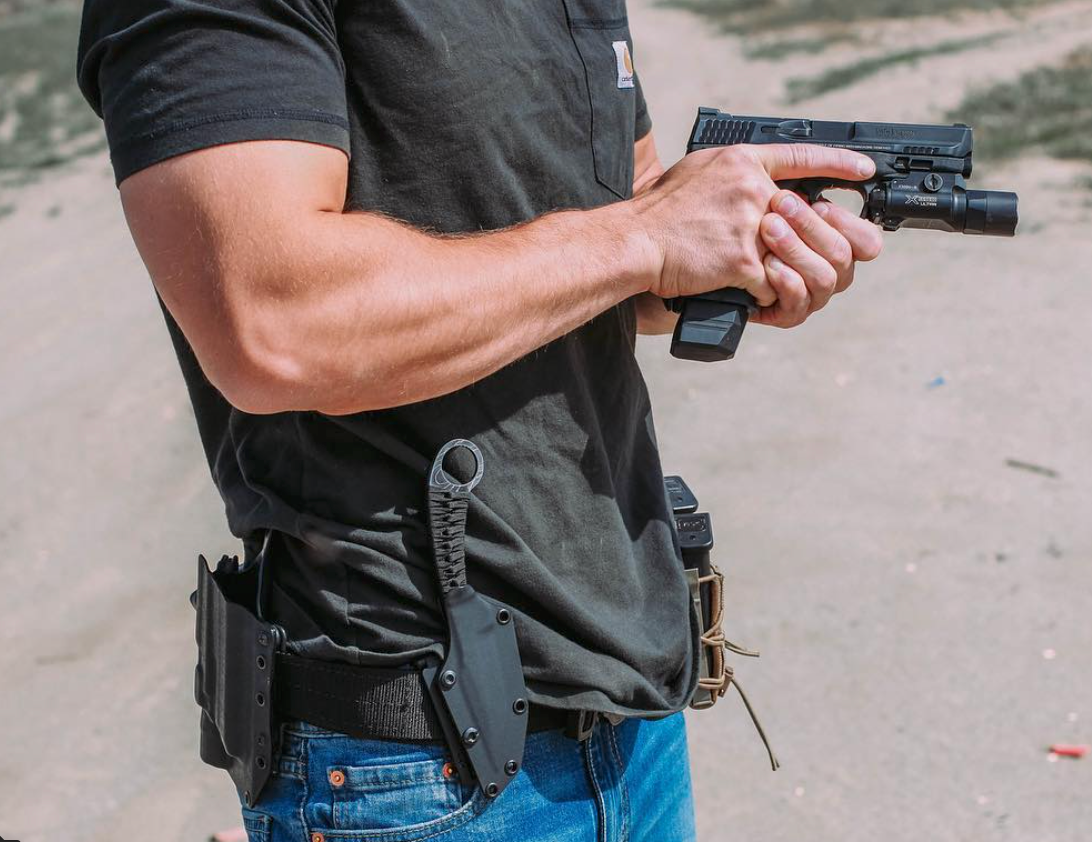gun: (669, 101, 1027, 410)
